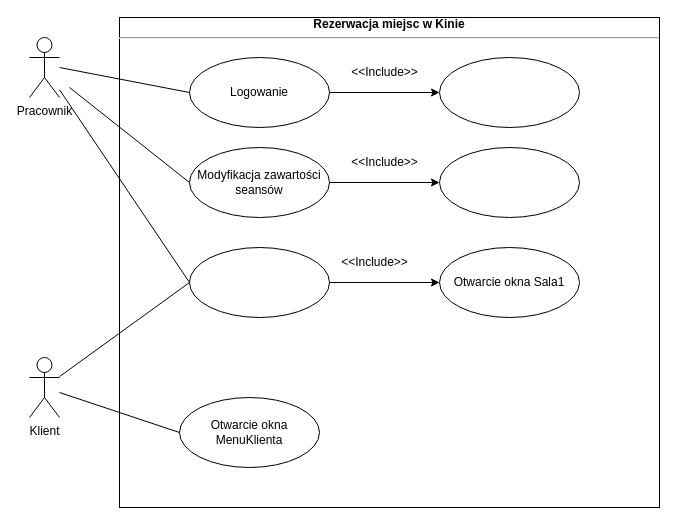
Some shapes in this 677 by 525 pixel diagram are drawn without their labels. The box of each missing label's shape, as (x1, y1, x2, y2) in pixels:
Otwarcie okna Logowanie: (438, 56, 580, 128)
Otwarcie okna MenuPracownika: (438, 146, 580, 218)
Rezerwacja miejsc: (188, 246, 330, 318)
